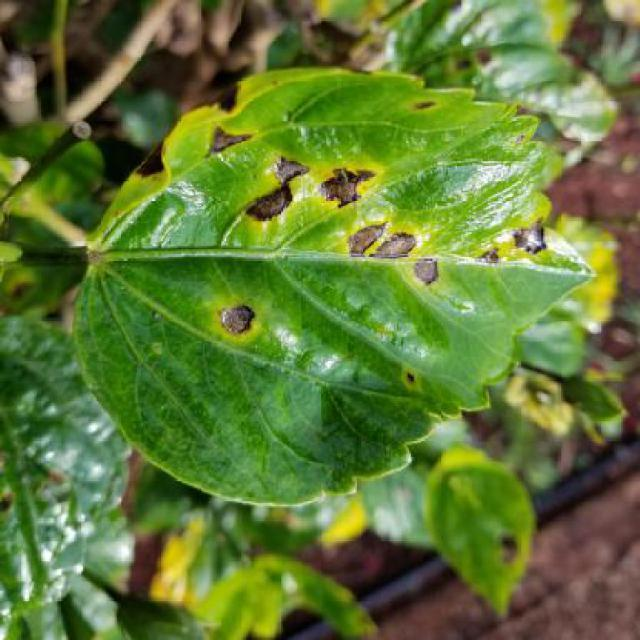Tomato late blight leaf: (74, 63, 602, 514)
